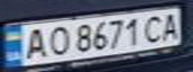1: (121, 16, 145, 46)
6: (90, 19, 112, 52)
7: (106, 17, 127, 48)
8: (72, 20, 93, 53)
A: (18, 25, 51, 61), (157, 10, 184, 42)
C: (139, 11, 169, 44)
O: (42, 24, 72, 56)
